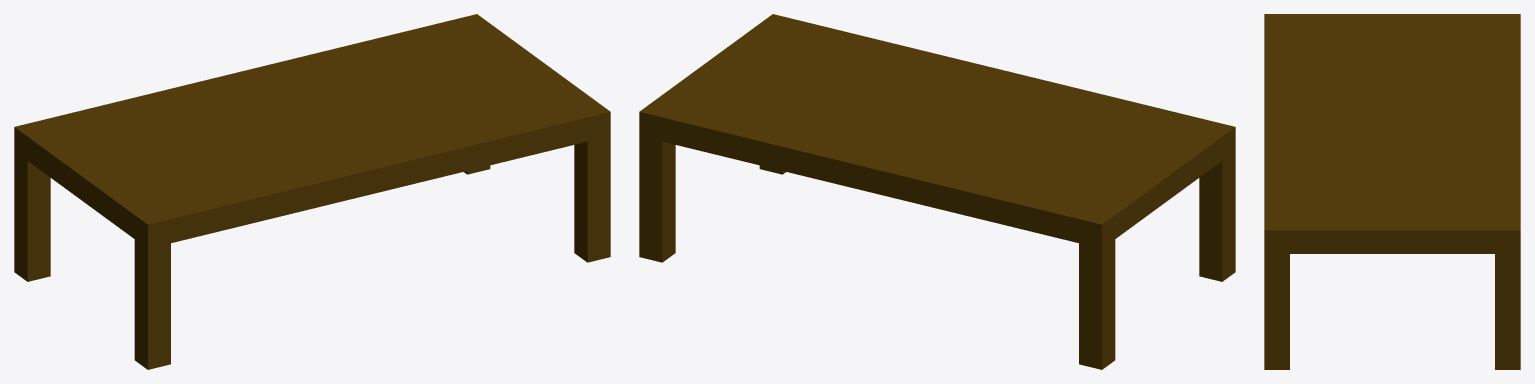
Rendered from Desk_1.fbx.
The picture shows the model from 3 angles, left to right: view 1: azimuth 30°, elevation 25°; view 2: azimuth 150°, elevation 25°; view 3: azimuth 270°, elevation 25°; orthographic projection. The views are drawn at different scales.
Parts seen in each view (by area): view 1: Cube, Cube.004, Cube.001, Cube.003; view 2: Cube, Cube.003, Cube.002, Cube.004; view 3: Cube, Cube.001, Cube.002.
Part boxes in pixels (left/top/right/bottom): Cube: left=14, top=14, right=610, bottom=248; Cube.004: left=134, top=239, right=170, bottom=369; Cube.001: left=574, top=136, right=610, bottom=262; Cube.003: left=14, top=151, right=50, bottom=281; Cube: left=639, top=14, right=1235, bottom=248; Cube.003: left=1079, top=239, right=1115, bottom=369; Cube.002: left=639, top=136, right=675, bottom=262; Cube.004: left=1199, top=151, right=1235, bottom=281; Cube: left=1264, top=14, right=1520, bottom=253; Cube.001: left=1264, top=254, right=1289, bottom=369; Cube.002: left=1495, top=254, right=1520, bottom=369.
Bounding box in the file's own units: 800 × 240 × 400.
